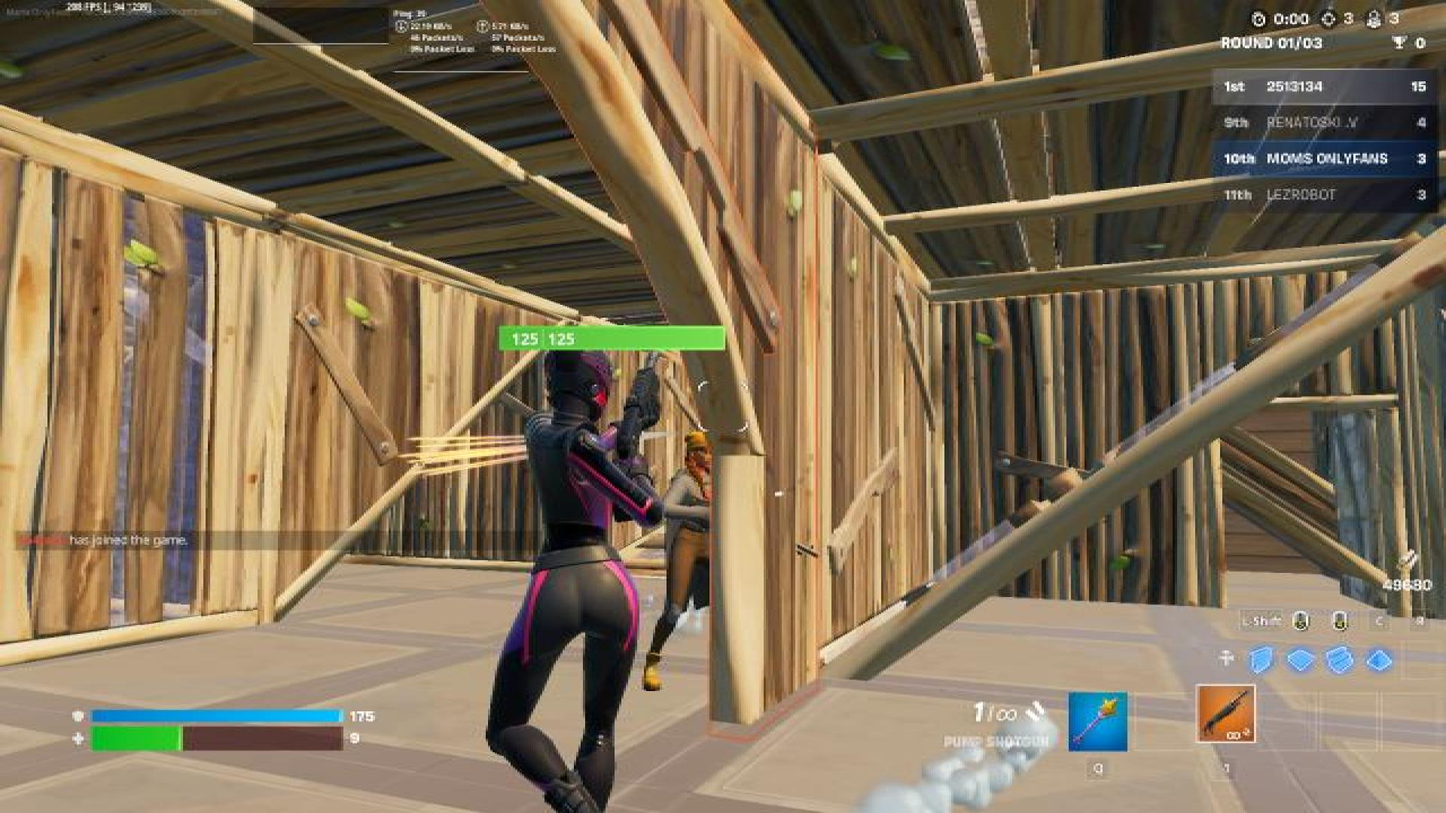player: (638, 422, 740, 697)
